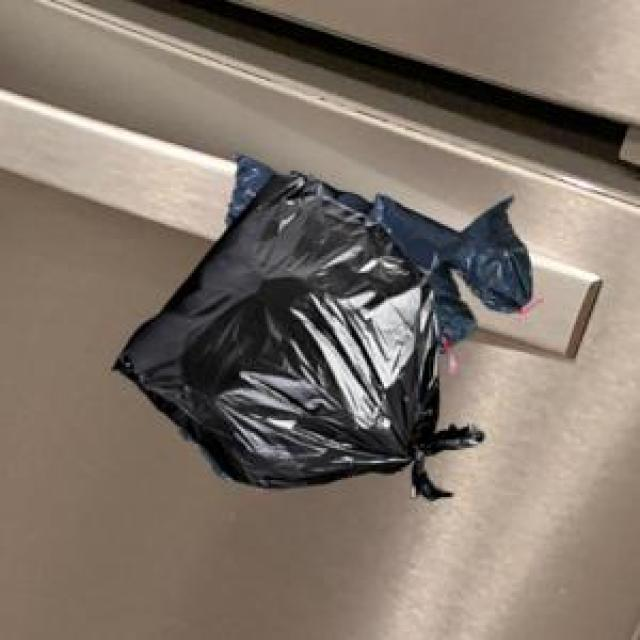waste: (115, 158, 531, 499)
